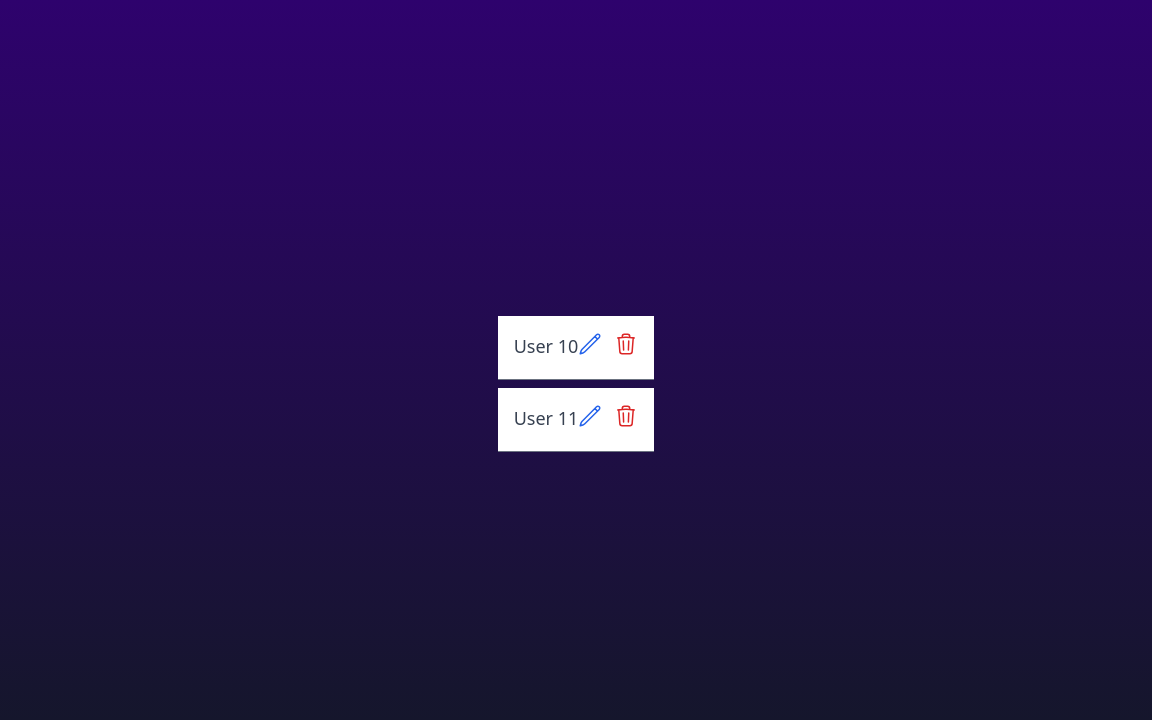
Test case: List Users › should open modal with one user selected to be deleted
The width and height of the screenshot is (1152, 720).
Click the 1st button with test id "action_delete".
click(626, 344)  # box [614,332,638,356]
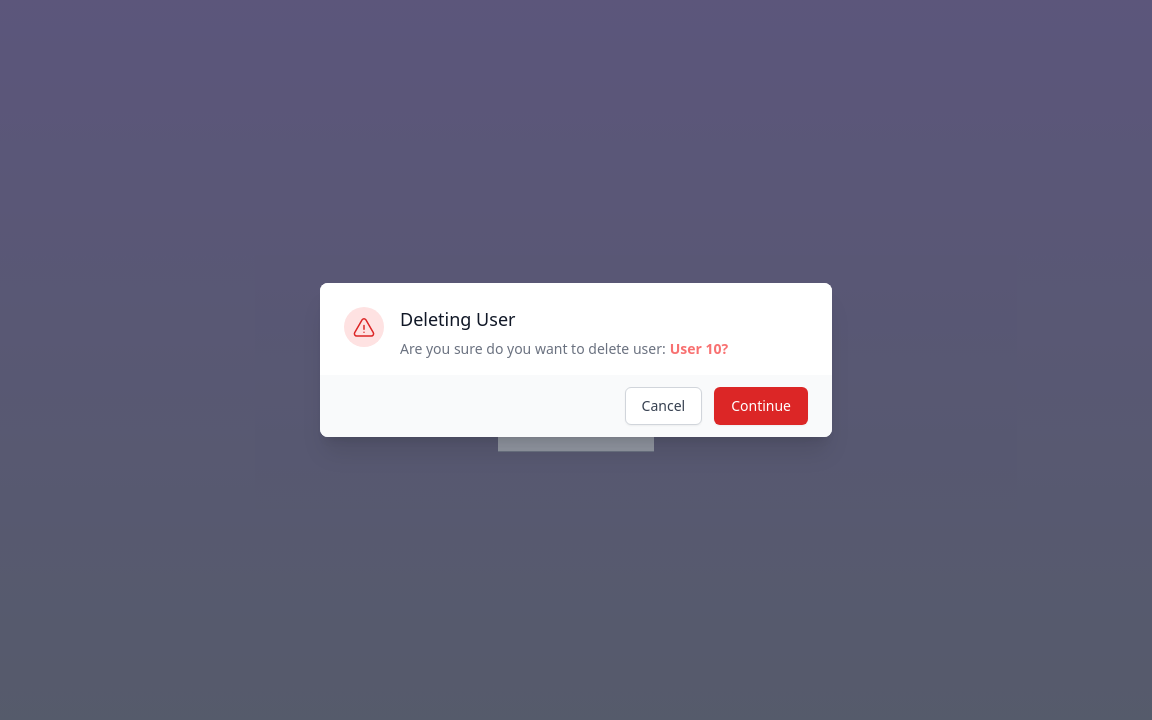
Check: the text "User 10" is shown, box [514,332,578,363]
Check: the text "Are you sure do you want to delete user:User 10?" is shown, box [400,339,728,359]
Click the button "Cancel".
click(663, 406)  # box [625,387,702,425]
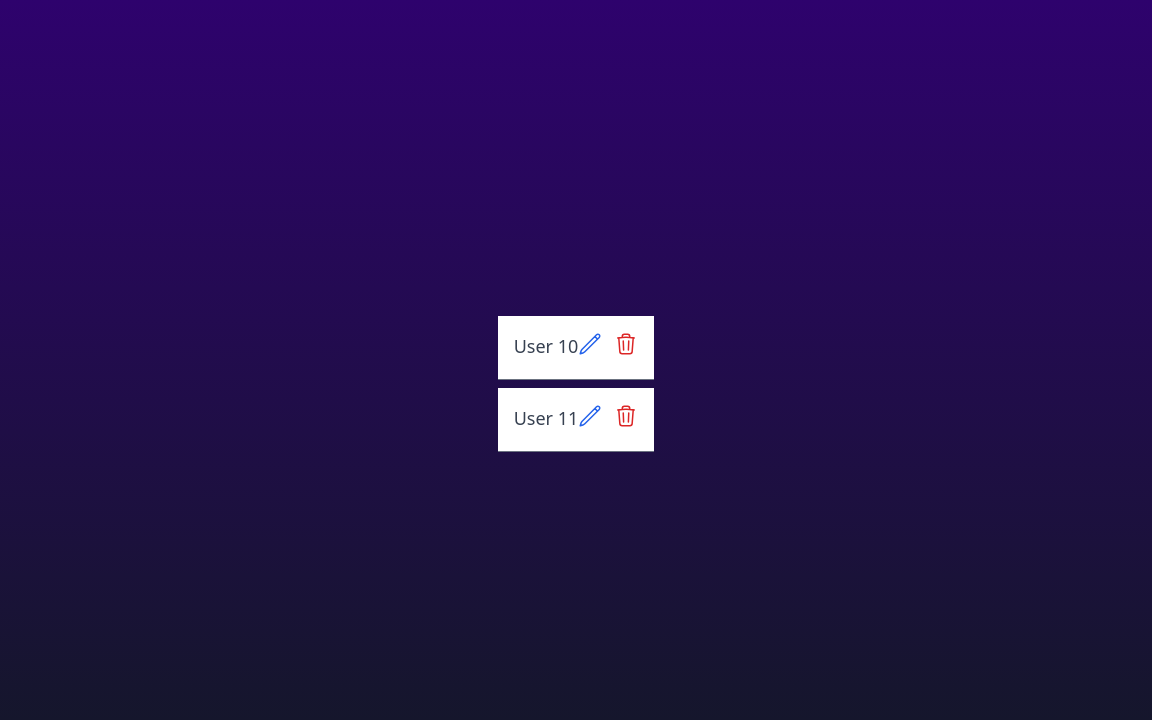
Check: the text "Are you sure do you want to delete user:" is gone
